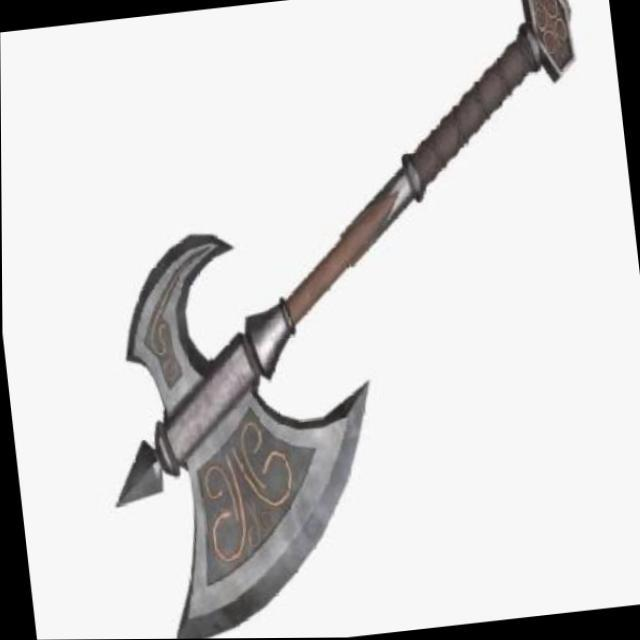weapon: (60, 0, 619, 508)
